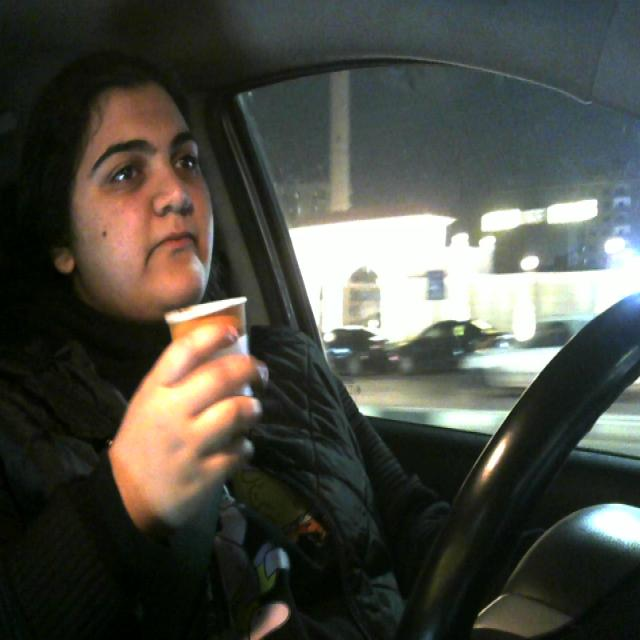drinking: (161, 293, 253, 442)
